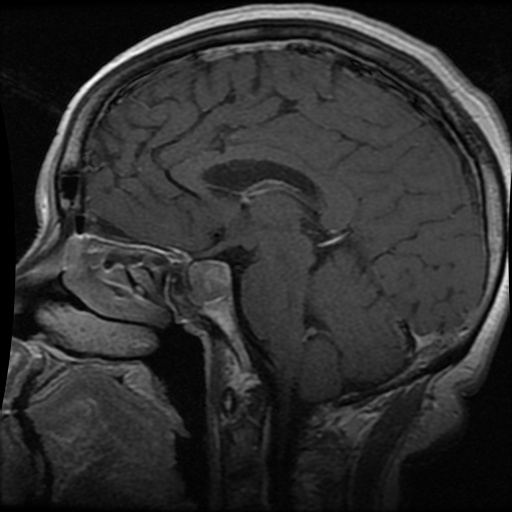pituitary: (189, 258, 233, 304)
